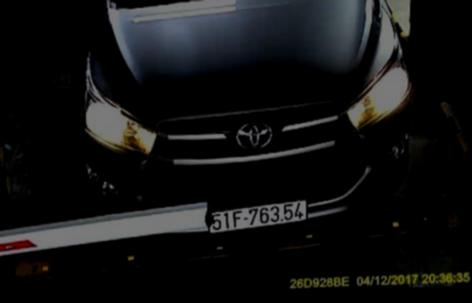License_Plate: (204, 201, 310, 232)
